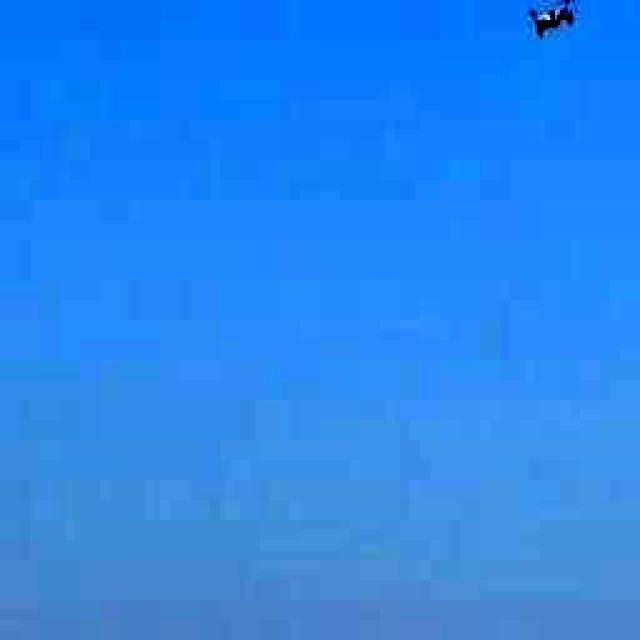bird: (505, 0, 600, 46)
